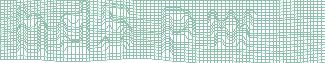5: (94, 2, 134, 55)
P: (159, 5, 198, 59)
d: (54, 1, 92, 57)
h: (15, 3, 50, 58)
w: (205, 8, 258, 51)
